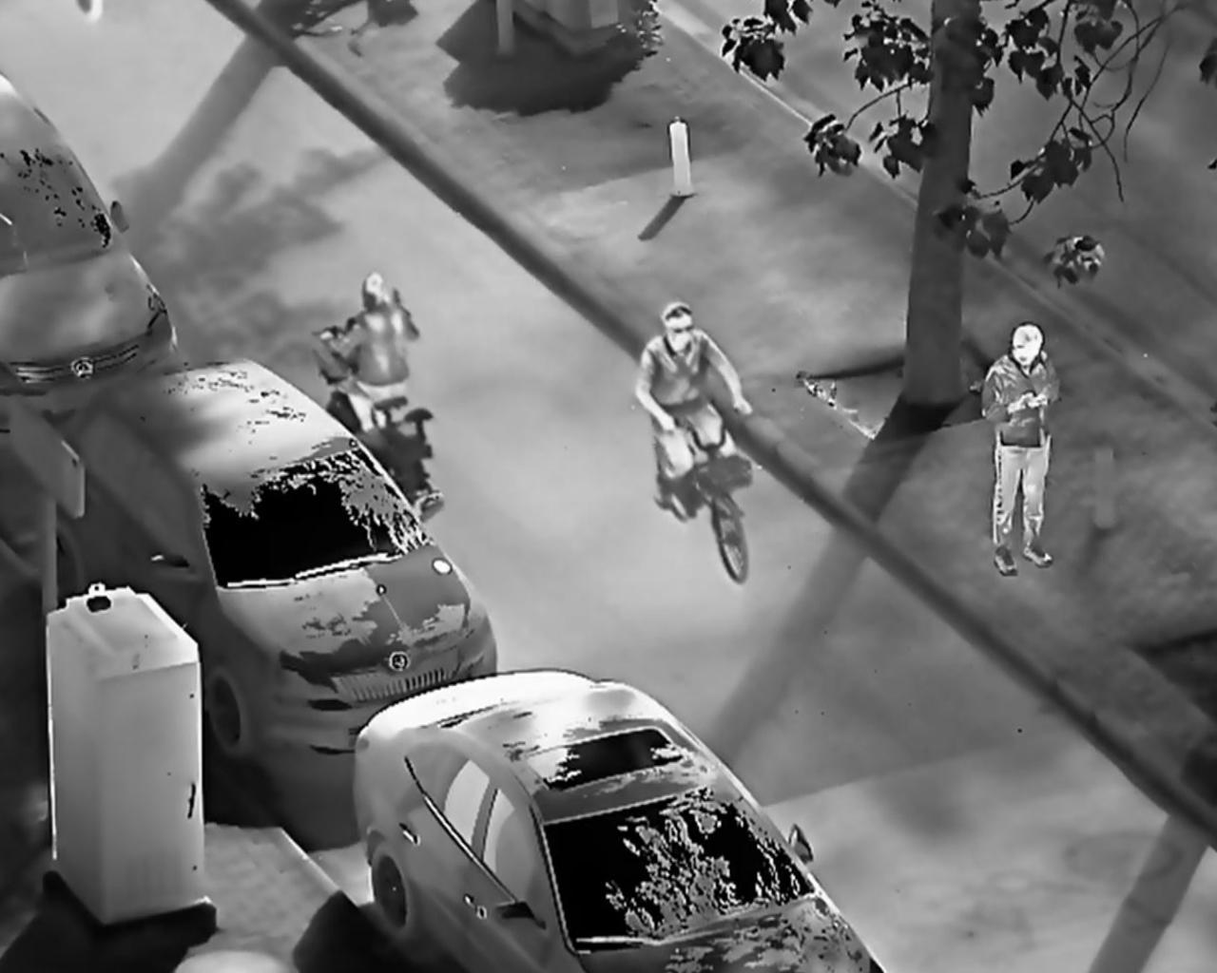person: (629, 300, 761, 526), (977, 322, 1059, 580), (323, 273, 418, 436)
